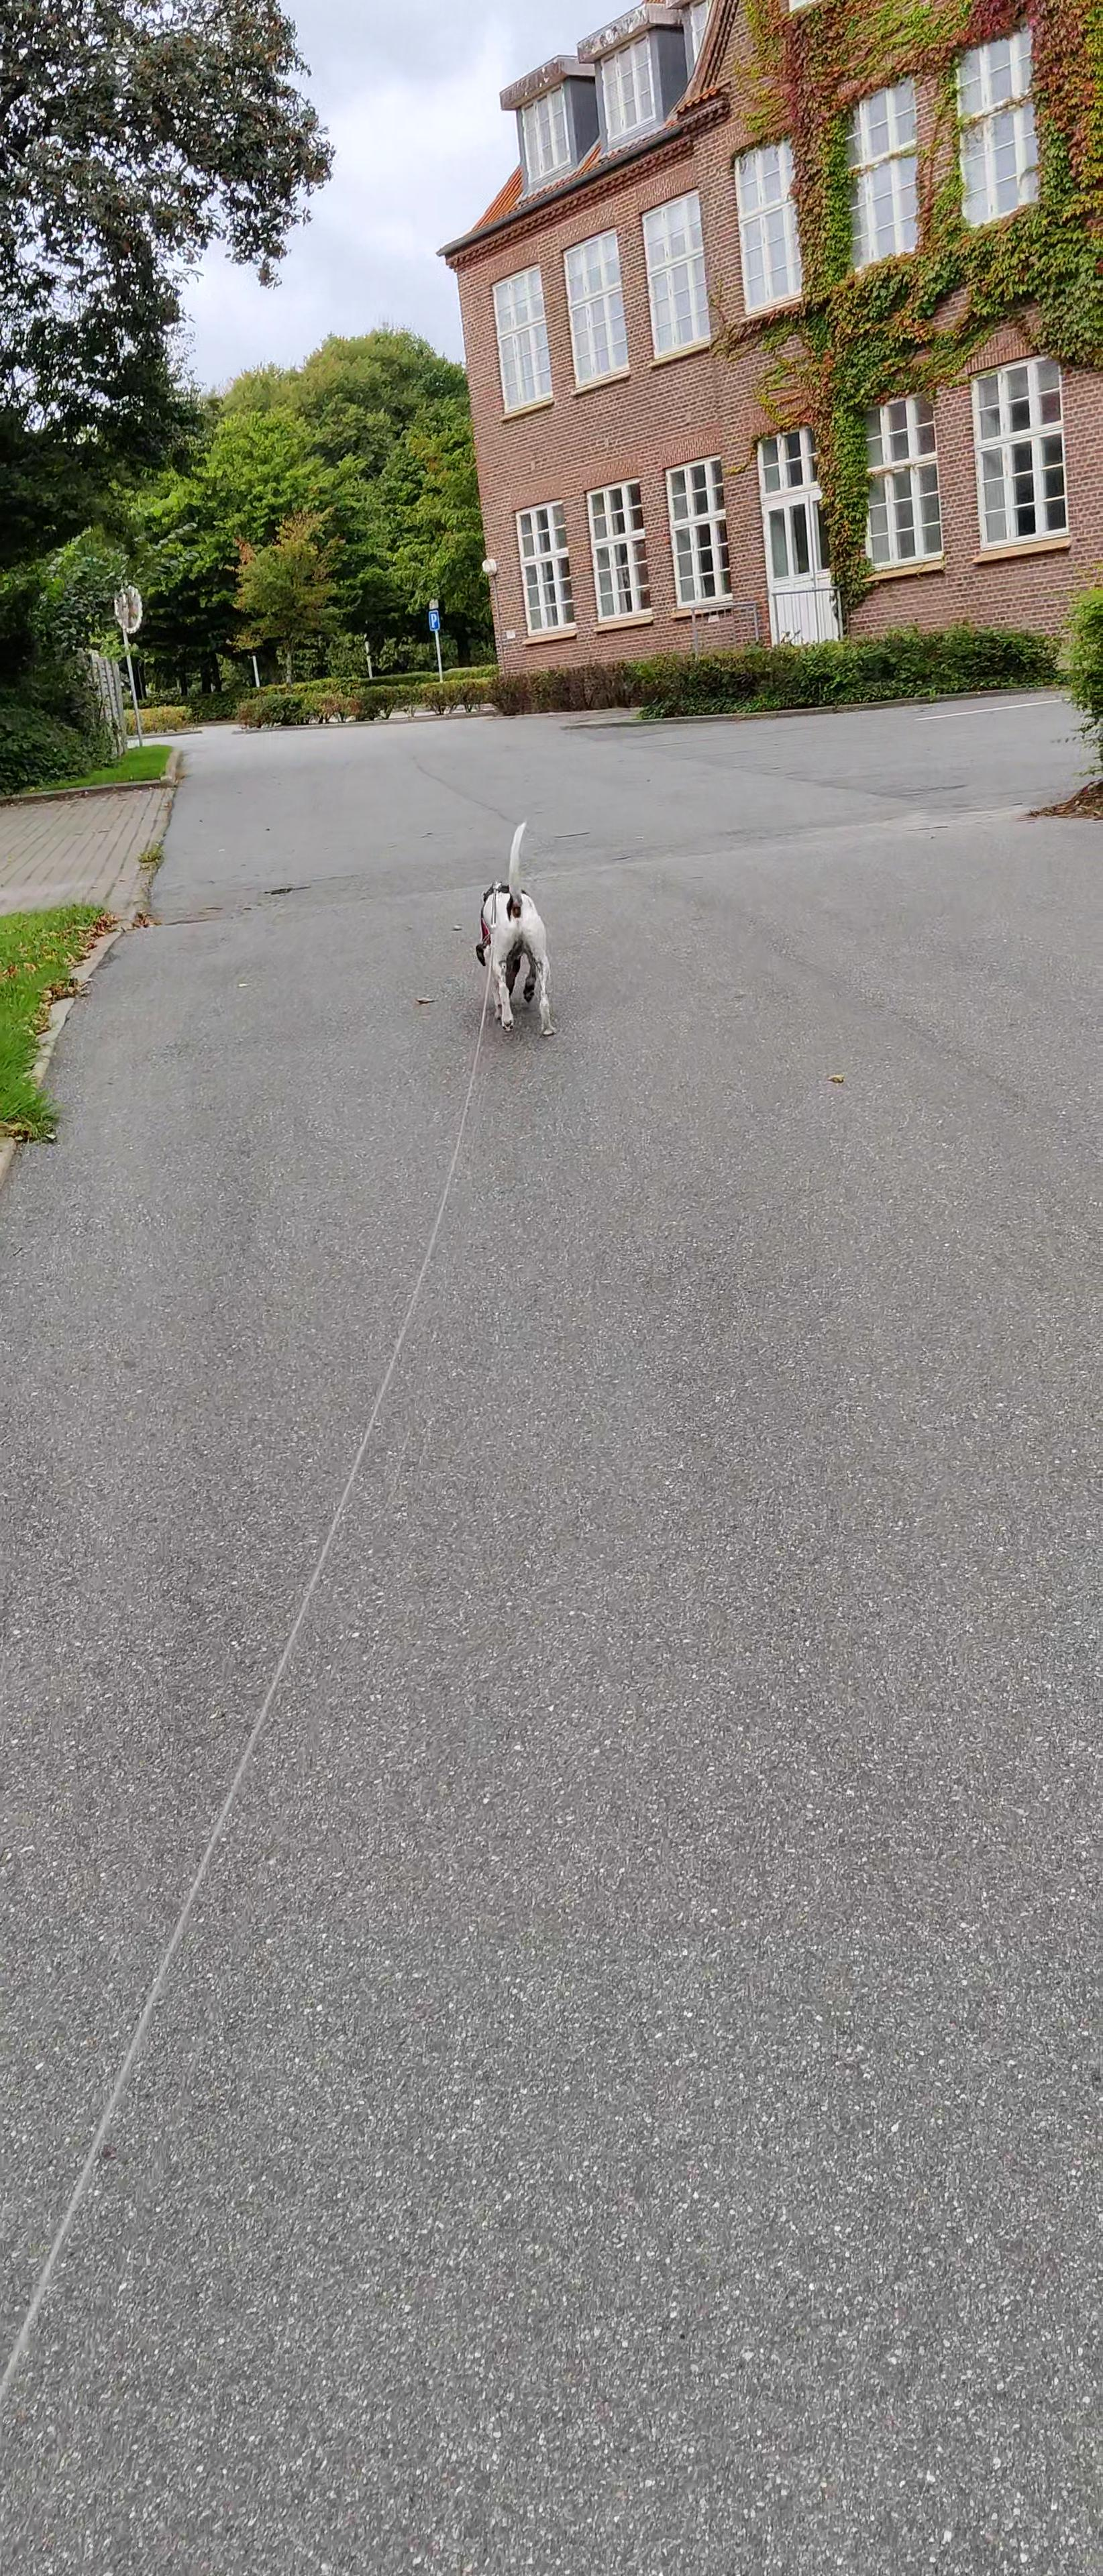Dog: (464, 808, 567, 1045)
